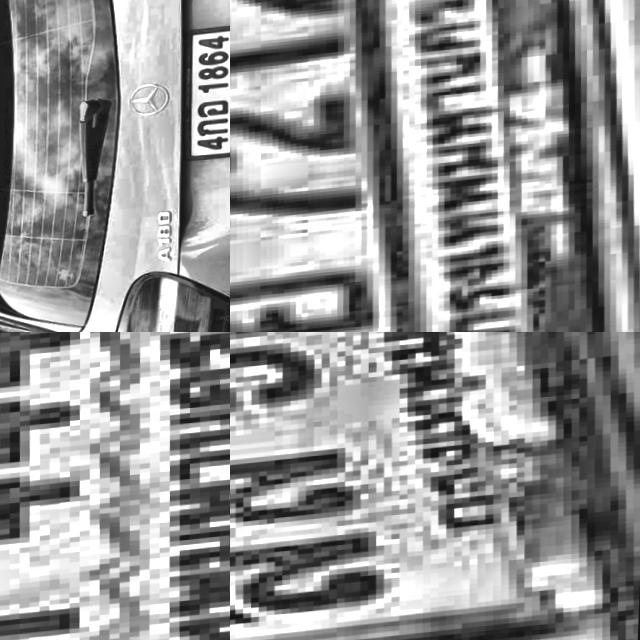license-plate: (230, 0, 640, 332), (230, 332, 640, 640), (0, 332, 230, 640), (179, 23, 230, 166)
